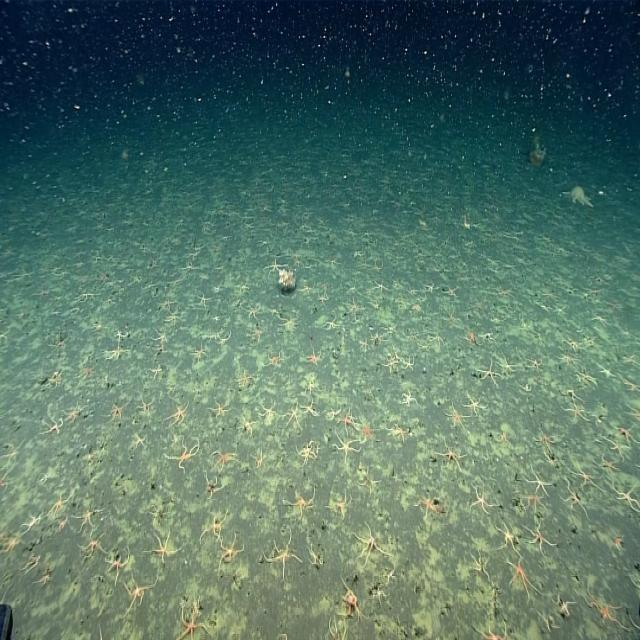brittle-stars: (585, 586, 628, 630), (119, 574, 160, 614), (263, 536, 301, 577), (506, 557, 537, 597), (356, 524, 387, 562), (178, 598, 206, 640), (559, 479, 589, 517), (147, 529, 179, 564), (170, 434, 200, 470), (569, 458, 601, 491), (102, 545, 130, 581), (524, 463, 552, 498), (218, 532, 245, 568), (522, 519, 551, 551), (612, 479, 640, 511), (469, 481, 494, 515), (494, 522, 520, 554), (288, 487, 316, 515), (212, 444, 238, 474), (80, 529, 107, 557), (76, 500, 102, 529), (332, 433, 361, 459), (437, 441, 464, 468), (200, 512, 226, 539), (534, 424, 557, 454), (168, 399, 191, 427), (469, 548, 490, 578), (478, 356, 500, 384), (49, 490, 73, 515), (605, 436, 630, 459), (62, 398, 84, 424), (326, 493, 349, 517), (416, 493, 439, 516), (208, 396, 230, 420), (444, 403, 466, 427), (563, 401, 589, 421), (388, 420, 411, 442), (282, 402, 301, 428), (462, 391, 482, 415), (137, 392, 156, 417), (42, 414, 63, 436), (597, 456, 620, 475), (343, 298, 363, 319), (558, 348, 578, 368), (106, 342, 127, 361), (429, 326, 445, 350), (235, 366, 254, 386), (260, 399, 278, 420), (340, 409, 356, 432), (251, 447, 267, 470), (151, 326, 169, 346), (78, 362, 96, 382), (110, 402, 126, 424), (158, 295, 177, 313), (241, 303, 261, 320), (305, 348, 321, 367), (527, 353, 542, 373), (240, 415, 256, 433), (300, 399, 316, 417), (324, 314, 340, 332), (401, 353, 416, 372), (191, 343, 207, 360), (325, 405, 341, 422), (372, 277, 389, 293), (278, 316, 298, 329), (267, 258, 282, 275), (501, 358, 516, 375), (382, 354, 396, 372), (197, 291, 209, 310), (164, 312, 180, 326), (359, 337, 369, 352), (316, 292, 328, 304)
